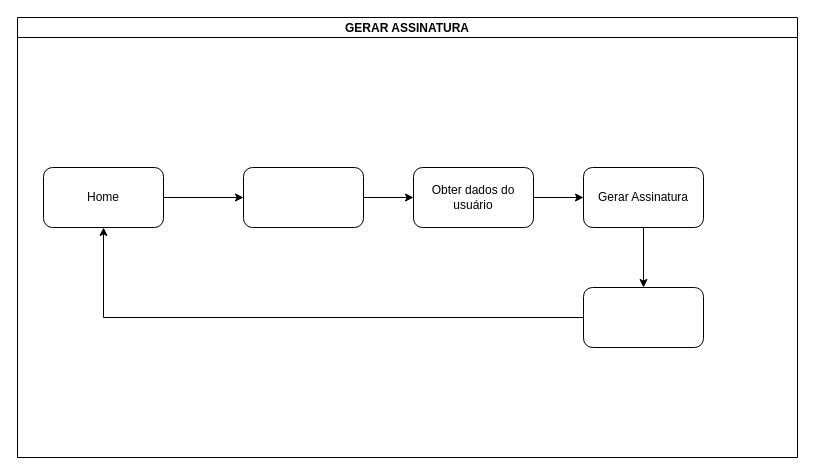
Some shapes in this 815 by 475 pixel diagram are drawn without their labels. Here are the shapes that lost their labels. From the top down, the centre of each, then its label:
At point (303, 197): "Assinatura".
At point (643, 317): "Enviar para o Outlook".
